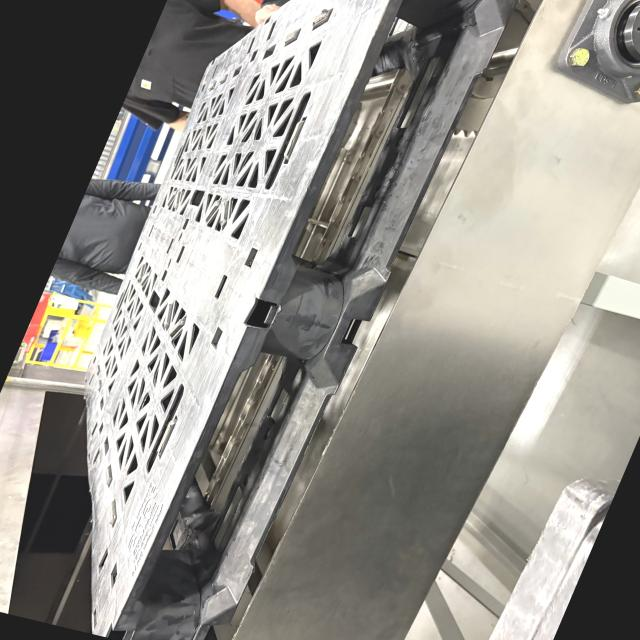igps: (61, 0, 551, 640)
